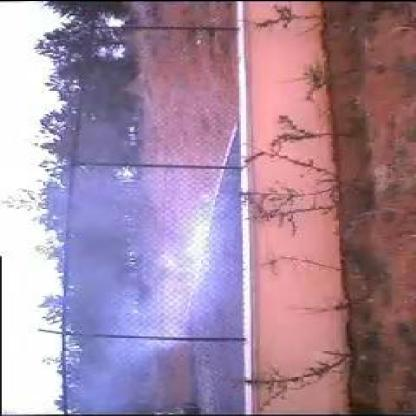-: (66, 164, 244, 338)
